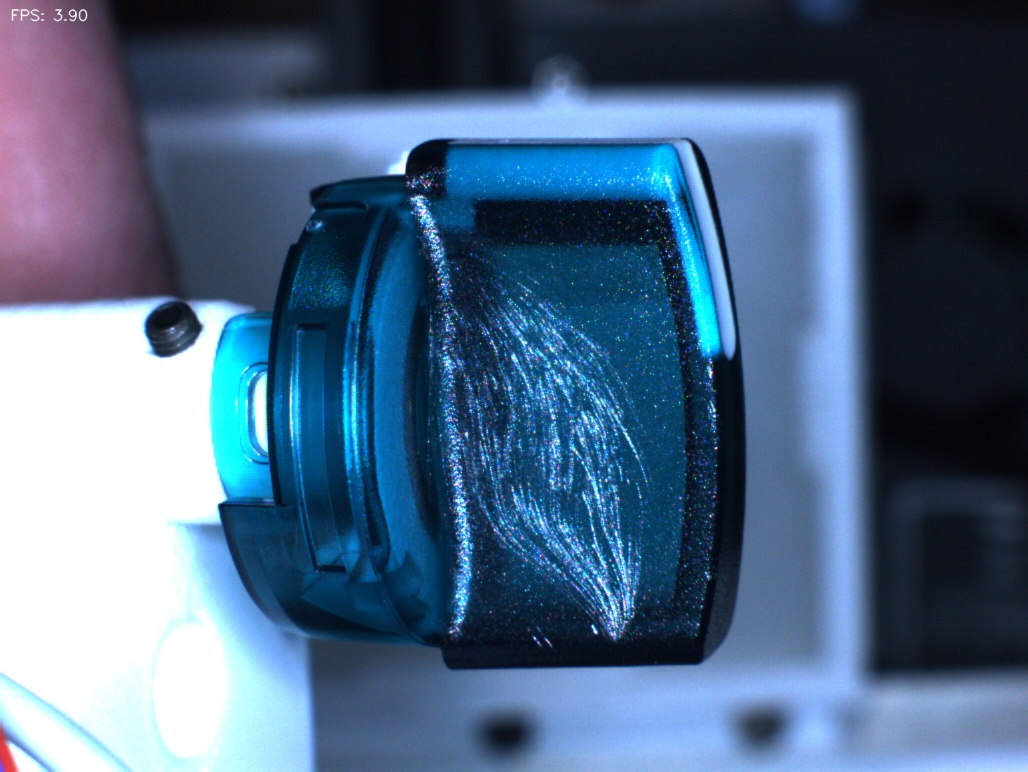Givrage: (452, 268, 664, 639)
